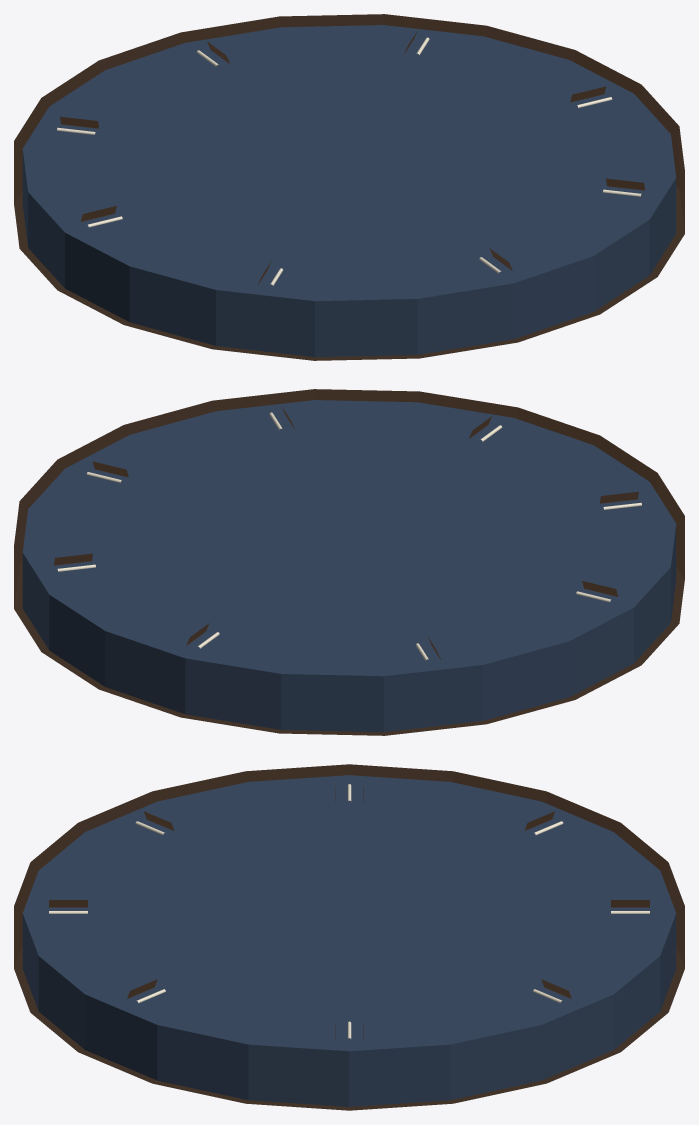
File: observatory-pillow.glb
3 views of the same model, one above another, from view 1: azimuth 30°, elevation 25°; view 2: azimuth 150°, elevation 25°; view 3: azimuth 270°, elevation 25° (orthographic).
Visible parts, largest first — view 1: observatory-pillow, observatory-pillow-outline; view 2: observatory-pillow, observatory-pillow-outline; view 3: observatory-pillow, observatory-pillow-outline.
Boxes of the visible parts, x1,y1,x2,y2 form: observatory-pillow: (22,25,676,357); observatory-pillow-outline: (14,14,684,360); observatory-pillow: (22,400,676,732); observatory-pillow-outline: (14,389,684,735); observatory-pillow: (22,775,676,1106); observatory-pillow-outline: (14,764,684,1110).
Size of the model in its own units: 1.03 by 0.1198 by 1.03.
